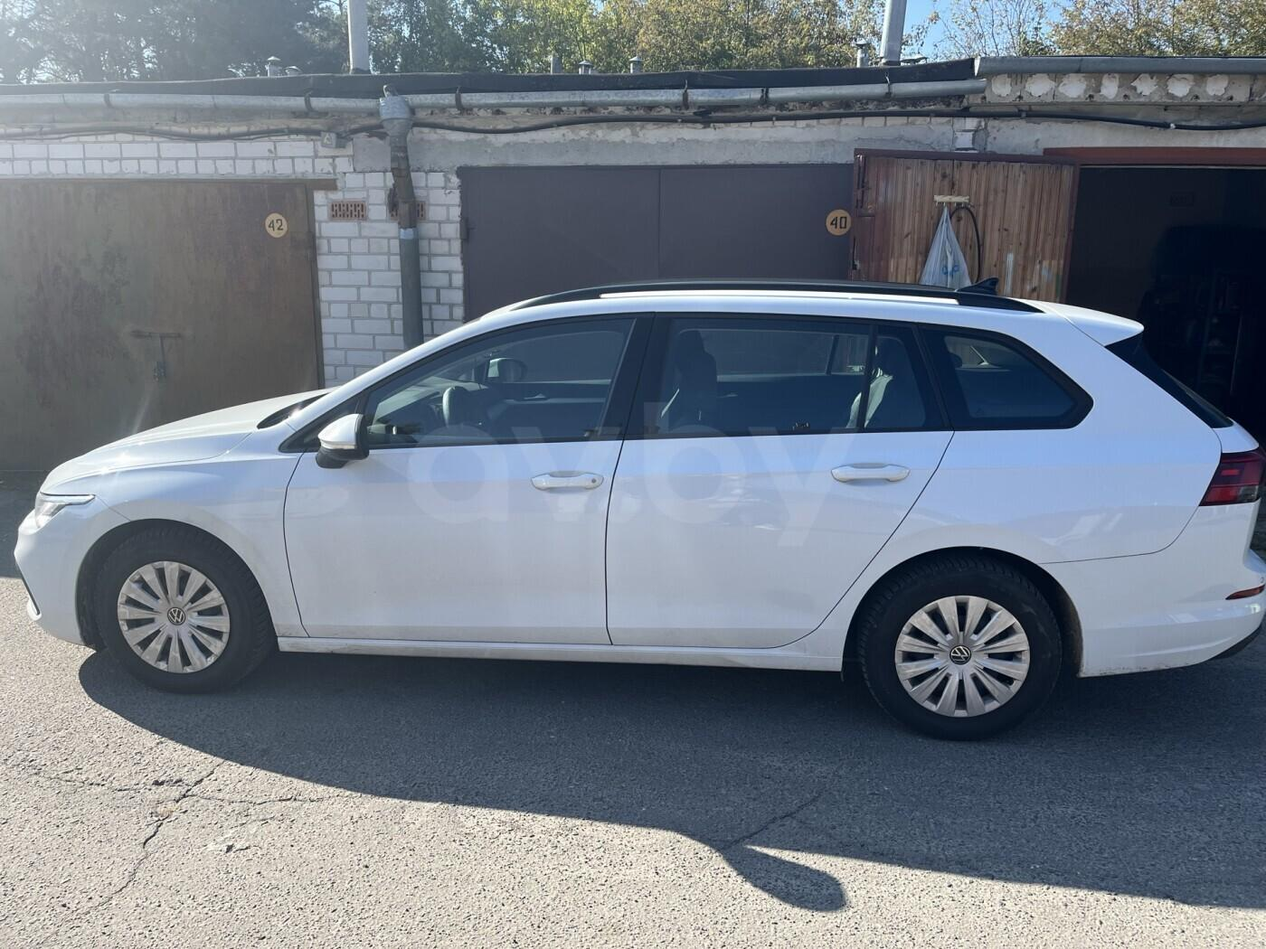Golf_2019: (13, 262, 1266, 738)
